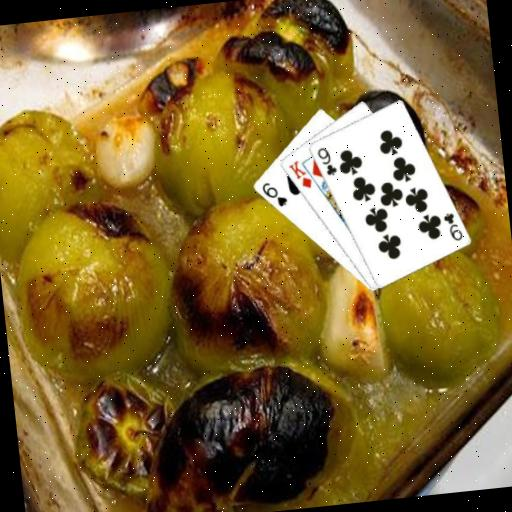6S: (258, 178, 289, 211)
9C: (314, 143, 339, 179), (440, 208, 465, 244)
KD: (284, 156, 314, 192)
